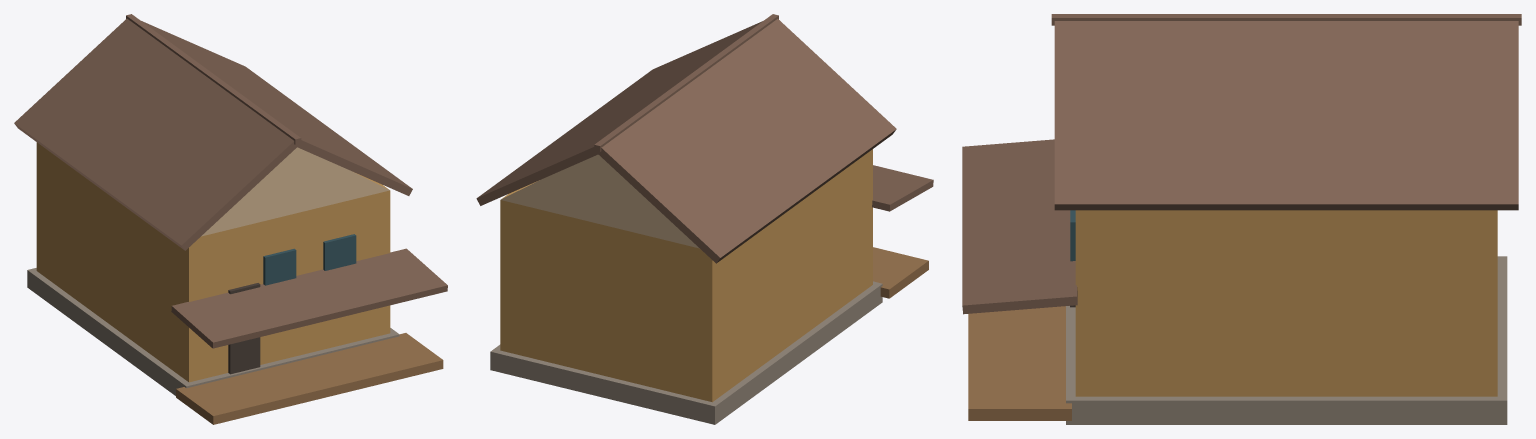
Rendered from arizona-timber-house-gable_lod1.glb.
3 renders of one model, left to right at view 1: azimuth 30°, elevation 25°; view 2: azimuth 150°, elevation 25°; view 3: azimuth 270°, elevation 25°, orthographic. The views are drawn at different scales.
Visible parts, largest first — view 1: RF_AZ_Gable_Walls, RF_AZ_Gable_RoofLeft, RF_AZ_Gable_PorchRoof, RF_AZ_Gable_PorchDeck, RF_AZ_Gable_Gable, RF_AZ_Gable_RoofRight, RF_AZ_Gable_Foundation, RF_AZ_Gable_Ridge, RF_AZ_Gable_Door, RF_AZ_Gable_Window, RF_AZ_Gable_Window.001; view 2: RF_AZ_Gable_Walls, RF_AZ_Gable_RoofLeft, RF_AZ_Gable_Foundation, RF_AZ_Gable_Gable.001, RF_AZ_Gable_RoofRight, RF_AZ_Gable_PorchDeck, RF_AZ_Gable_PorchRoof, RF_AZ_Gable_Ridge; view 3: RF_AZ_Gable_RoofRight, RF_AZ_Gable_Walls, RF_AZ_Gable_PorchRoof, RF_AZ_Gable_Foundation, RF_AZ_Gable_PorchDeck, RF_AZ_Gable_Ridge.
Boxes of the visible parts, box(x1,y1,x2,y2) form: RF_AZ_Gable_Walls: box(36, 142, 390, 382); RF_AZ_Gable_RoofLeft: box(14, 18, 298, 250); RF_AZ_Gable_PorchRoof: box(171, 248, 447, 348); RF_AZ_Gable_PorchDeck: box(176, 333, 443, 424); RF_AZ_Gable_Gable: box(201, 147, 389, 236); RF_AZ_Gable_RoofRight: box(141, 21, 412, 195); RF_AZ_Gable_Foundation: box(27, 268, 399, 395); RF_AZ_Gable_Ridge: box(126, 14, 301, 144); RF_AZ_Gable_Door: box(228, 283, 260, 374); RF_AZ_Gable_Window: box(263, 248, 296, 285); RF_AZ_Gable_Window.001: box(323, 234, 356, 270); RF_AZ_Gable_Walls: box(500, 149, 872, 402); RF_AZ_Gable_RoofLeft: box(596, 19, 896, 263); RF_AZ_Gable_Foundation: box(490, 281, 882, 424); RF_AZ_Gable_Gable.001: box(500, 154, 699, 248); RF_AZ_Gable_RoofRight: box(476, 21, 762, 205); RF_AZ_Gable_PorchDeck: box(873, 247, 928, 298); RF_AZ_Gable_PorchRoof: box(872, 165, 933, 211); RF_AZ_Gable_Ridge: box(594, 14, 778, 151); RF_AZ_Gable_RoofRight: box(1054, 21, 1518, 210); RF_AZ_Gable_Walls: box(1075, 210, 1497, 396); RF_AZ_Gable_PorchRoof: box(962, 139, 1077, 314); RF_AZ_Gable_Foundation: box(1066, 256, 1507, 424); RF_AZ_Gable_PorchDeck: box(968, 306, 1071, 420); RF_AZ_Gable_Ridge: box(1051, 14, 1521, 25).
Bounding box in the file's own units: 9.8 × 9.69 × 14.58.
